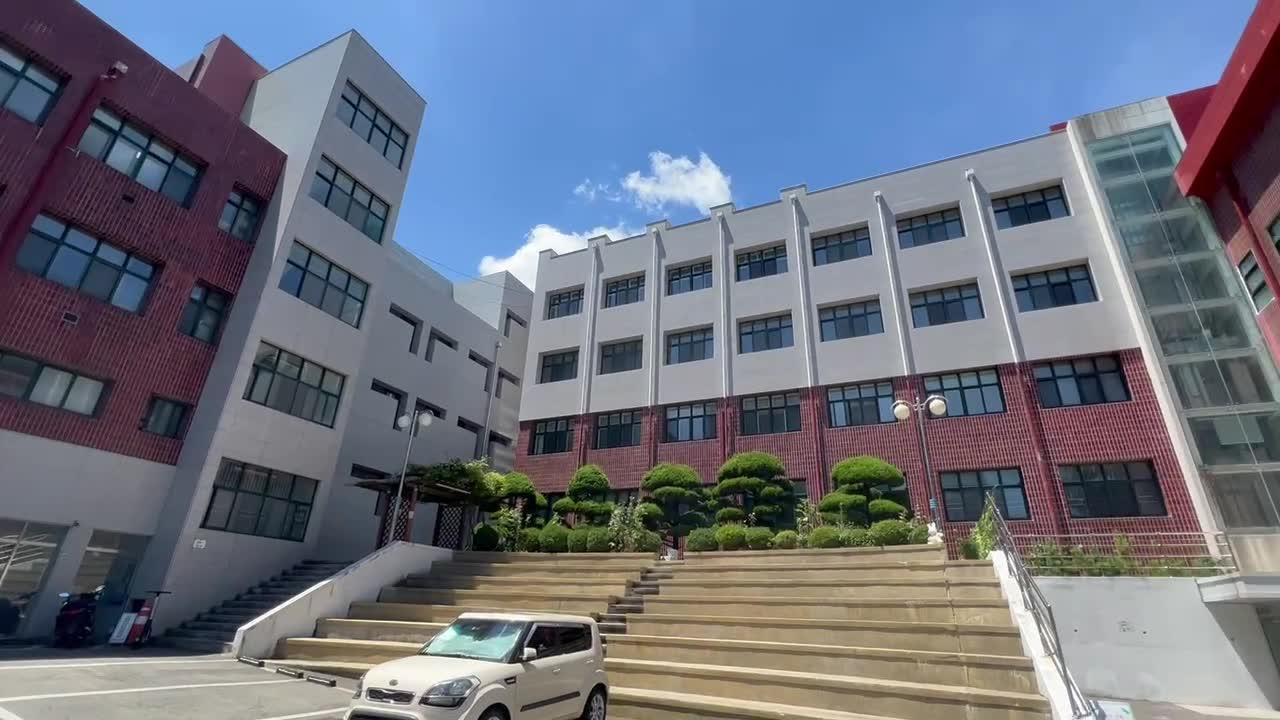building: (0, 11, 1280, 567)
